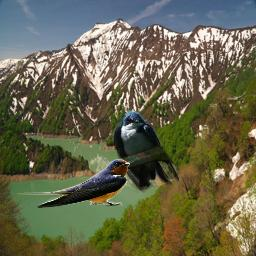Swallow: (111, 110, 182, 195), (14, 158, 130, 208)
